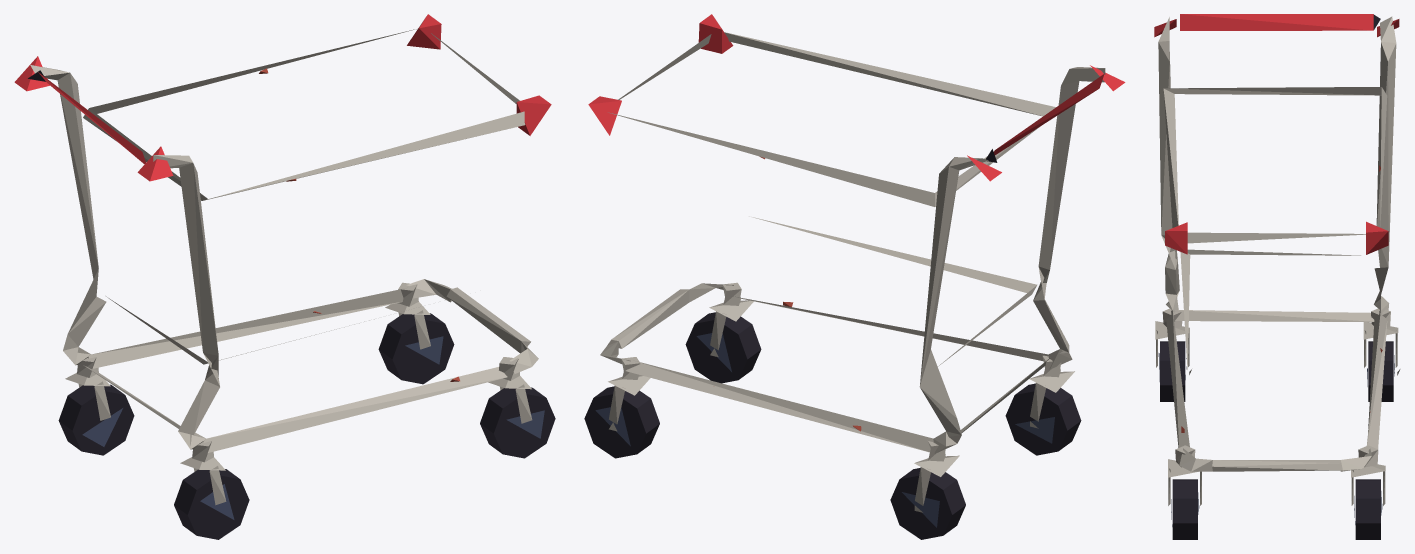
File: prop.shopping-cart.lod2.glb
3 renders of one model, left to right at view 1: azimuth 30°, elevation 25°; view 2: azimuth 150°, elevation 25°; view 3: azimuth 270°, elevation 25°, orthographic. The views are drawn at different scales.
Visible parts, largest first — view 1: object 1, casterRR, casterFL, casterRL, casterFR, object 7; view 2: object 1, casterFR, casterFL, casterRR, casterRL, object 7; view 3: object 1, object 7, casterFL, casterFR, casterRR, casterRL.
Part boxes in pixels (x1,y1,x2,y2): object 1: (30, 29, 538, 452); casterRR: (174, 441, 249, 539); casterFL: (378, 282, 454, 384); casterRL: (58, 357, 134, 455); casterFR: (480, 357, 555, 458); object 7: (14, 14, 551, 181); object 1: (600, 32, 1105, 453); casterFR: (685, 282, 761, 383); casterFL: (584, 357, 659, 458); casterRR: (1005, 355, 1081, 455); casterRL: (890, 441, 965, 539); object 7: (588, 14, 1125, 181); object 1: (1158, 16, 1396, 471); object 7: (1154, 14, 1399, 254); casterFL: (1351, 445, 1385, 539); casterFR: (1168, 445, 1201, 539); casterRR: (1155, 308, 1191, 401); casterRL: (1363, 308, 1400, 401).
Bounding box in the file's own units: 1.21 × 1.11 × 0.6862.
